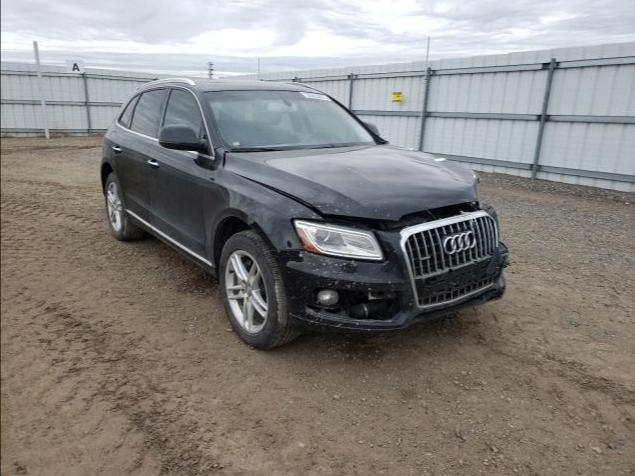Broken part: (273, 231, 509, 335), (224, 169, 489, 234)
Dent: (402, 152, 477, 203)
Missing part: (475, 178, 490, 210)
Paint chip: (325, 259, 351, 279), (349, 262, 359, 269), (310, 267, 319, 274), (320, 270, 328, 276), (352, 281, 358, 288), (383, 213, 389, 219), (304, 252, 309, 259), (364, 286, 371, 291), (305, 261, 311, 266), (320, 262, 326, 267), (386, 280, 392, 285), (298, 252, 303, 257), (312, 262, 317, 267), (345, 284, 351, 288), (335, 280, 339, 286), (326, 282, 332, 286), (345, 205, 349, 209), (308, 195, 312, 199), (310, 215, 315, 218), (345, 210, 349, 213), (312, 212, 316, 215), (290, 209, 294, 212), (335, 209, 338, 212), (317, 205, 320, 208), (473, 175, 475, 179), (322, 211, 326, 213), (374, 210, 377, 212), (325, 205, 328, 207), (360, 182, 362, 185), (268, 191, 271, 193), (318, 216, 321, 218)
